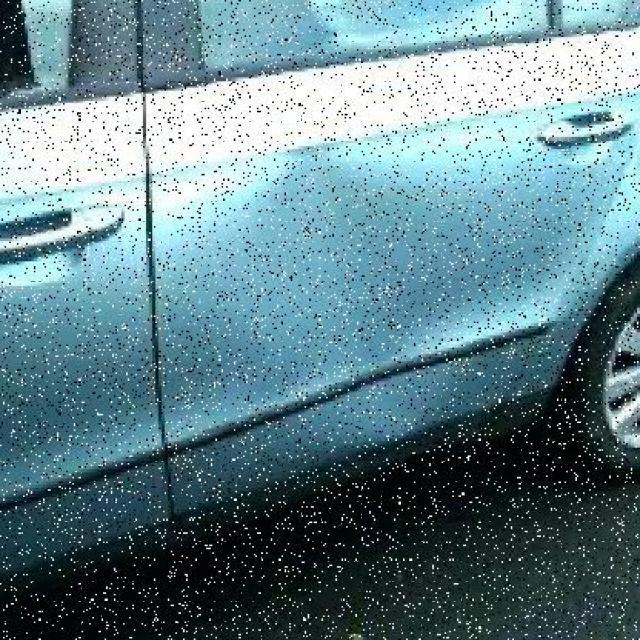Dent: (317, 336, 463, 451), (247, 131, 352, 221)
